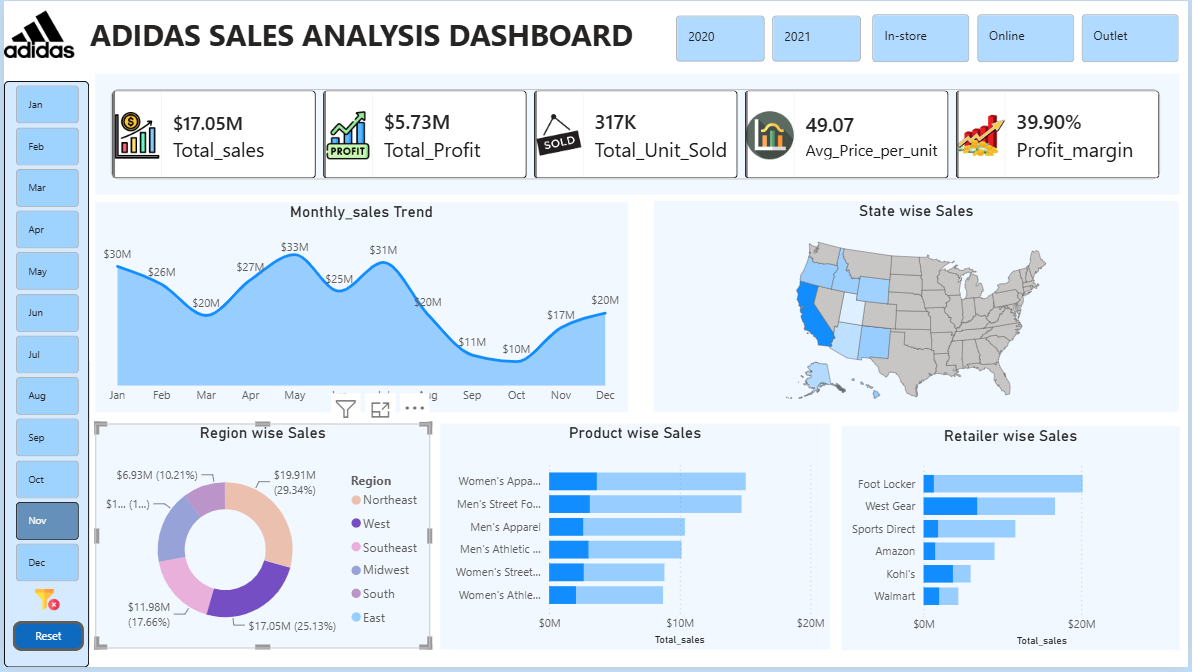

Layout of this report page (visuals, bound fields, positions):
{"tool":"powerbi","page":{"name":"Page 1","canvas":[1280,720],"ordinal":0},"visuals":[{"type":"cardVisual","fields":{"Data":["Data Sales Adidas.Total_sales","Data Sales Adidas.Total_Profit","Data Sales Adidas.Total_Unit_Sold","Data Sales Adidas.Avg_Price_per_unit","Data Sales Adidas.Profit_margin"]},"box":[98.4,78.7,1172.1,131.1],"z":0},{"type":"image","box":[0,0,76.4,72.2],"z":1000},{"type":"textbox","box":[87.5,9.7,645.8,62.5],"z":2000},{"type":"shape","box":[0,86,92,634],"z":3000},{"type":"areaChart","title":"Monthly_sales Trend","fields":{"Y":["Data Sales Adidas.Total_sales"],"Category":["Data Sales Adidas.Month"]},"box":[98.6,217.1,575.7,227.1],"z":4000},{"type":"shapeMap","title":"State wise Sales","fields":{"Category":["Data Sales Adidas.State"],"Value":["Data Sales Adidas.Total_sales"]},"box":[703.3,216.4,567.2,227.9],"z":5000},{"type":"donutChart","title":"Region wise Sales","fields":{"Category":["Data Sales Adidas.Region"],"Y":["Data Sales Adidas.Total_sales"]},"box":[98.4,457.4,362.3,242.6],"z":6000},{"type":"clusteredBarChart","title":"Product wise Sales","fields":{"Category":["Data Sales Adidas.Product"],"Y":["Data Sales Adidas.Total_sales"]},"box":[472.1,457.4,421.3,244.3],"z":7000},{"type":"clusteredBarChart","title":"Retailer wise Sales","fields":{"Y":["Data Sales Adidas.Total_sales"],"Category":["Data Sales Adidas.Retailer"]},"box":[904.9,459,365.6,242.6],"z":8000},{"type":"advancedSlicerVisual","fields":{"Values":["Data Sales Adidas.Sales Method"]},"box":[933.3,9.7,343.1,62.5],"z":9000},{"type":"advancedSlicerVisual","fields":{"Values":["Data Sales Adidas.Invoice Date.Variation.Date Hierarchy.Year"]},"box":[721.3,11.5,211.5,60.7],"z":10000},{"type":"advancedSlicerVisual","fields":{"Values":["Data Sales Adidas.Month"]},"box":[8.2,86.9,78.7,549.2],"z":11000},{"type":"image","box":[34.4,624.6,26.2,45.9],"z":12000},{"type":"actionButton","box":[9.5,670.3,77,32.4],"z":13000}]}

Visuals, with their boxes in screenshot pixels (x1, y1, x2, y2), scaled from the page's 1280x720 canvas onto the 1192x672 screenshot:
cardVisual - Data Sales Adidas.Total_sales x Data Sales Adidas.Total_Profit: box=[92, 73, 1183, 196]
image: box=[0, 0, 71, 67]
textbox: box=[81, 9, 683, 67]
shape: box=[0, 80, 86, 671]
"Monthly_sales Trend" areaChart: box=[92, 203, 628, 415]
"State wise Sales" shapeMap: box=[655, 202, 1183, 415]
"Region wise Sales" donutChart: box=[92, 427, 429, 653]
"Product wise Sales" clusteredBarChart: box=[440, 427, 832, 655]
"Retailer wise Sales" clusteredBarChart: box=[843, 428, 1183, 655]
advancedSlicerVisual - Data Sales Adidas.Sales Method: box=[869, 9, 1189, 67]
advancedSlicerVisual - Data Sales Adidas.Invoice Date.Variation.Date Hierarchy.Year: box=[672, 11, 869, 67]
advancedSlicerVisual - Data Sales Adidas.Month: box=[8, 81, 81, 594]
image: box=[32, 583, 56, 626]
actionButton: box=[9, 626, 81, 656]
